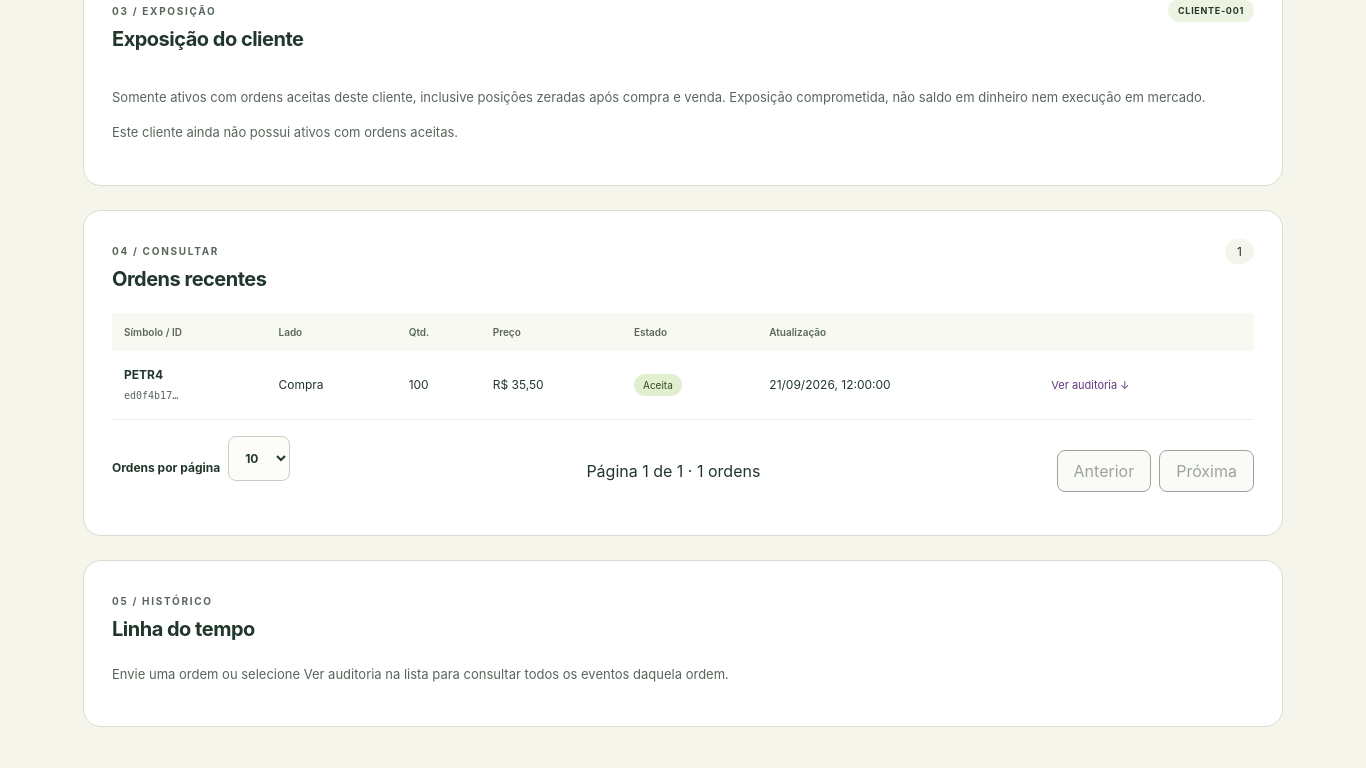
Ver auditoria abre todos os eventos da ordem selecionada e elimina duplicatas
The width and height of the screenshot is (1366, 768).
(page scrolled)
Click the button "Ver auditoria ↓". click: point(1090, 385)
box: [1043, 370, 1137, 400]
(page scrolled)
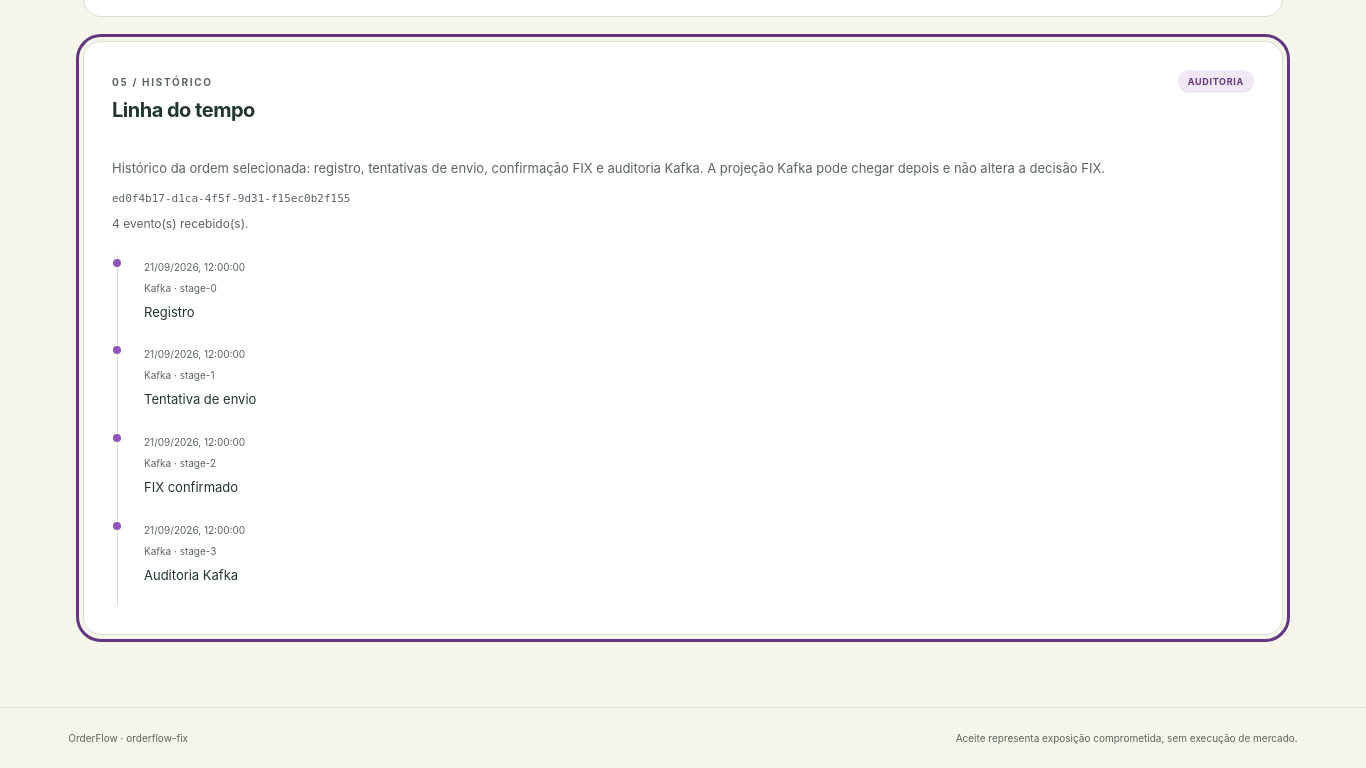
Result: the text "4 evento(s) recebido(s)." is shown at [111, 215, 248, 231]
Result: the number of list items is 4 at [144, 261, 245, 320]; [144, 348, 256, 408]; [144, 436, 245, 495]; [144, 524, 245, 583]
Result: the text "Registro" is shown at [144, 304, 194, 320]
